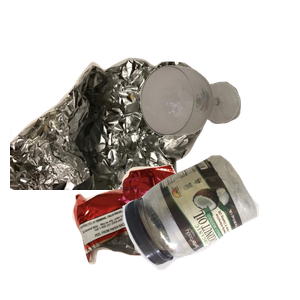glass: (138, 63, 300, 191)
metal: (10, 47, 216, 227)
plastic: (120, 152, 300, 300)
trash: (70, 162, 257, 300)
